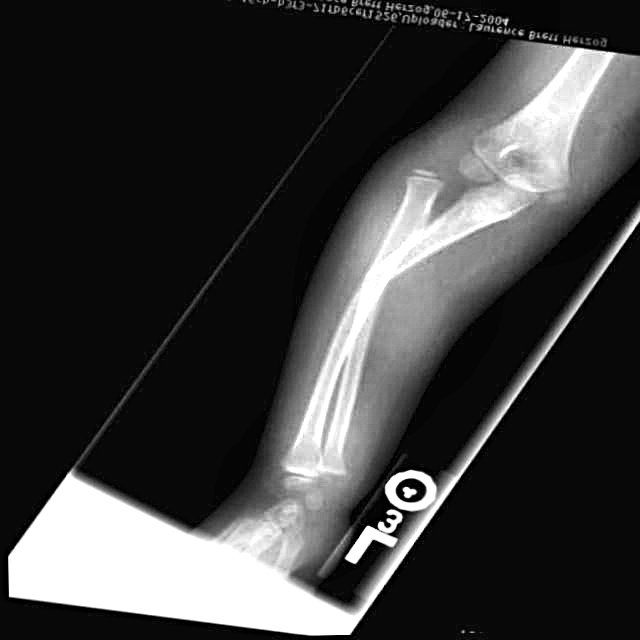Spiral: (346, 219, 431, 338)
